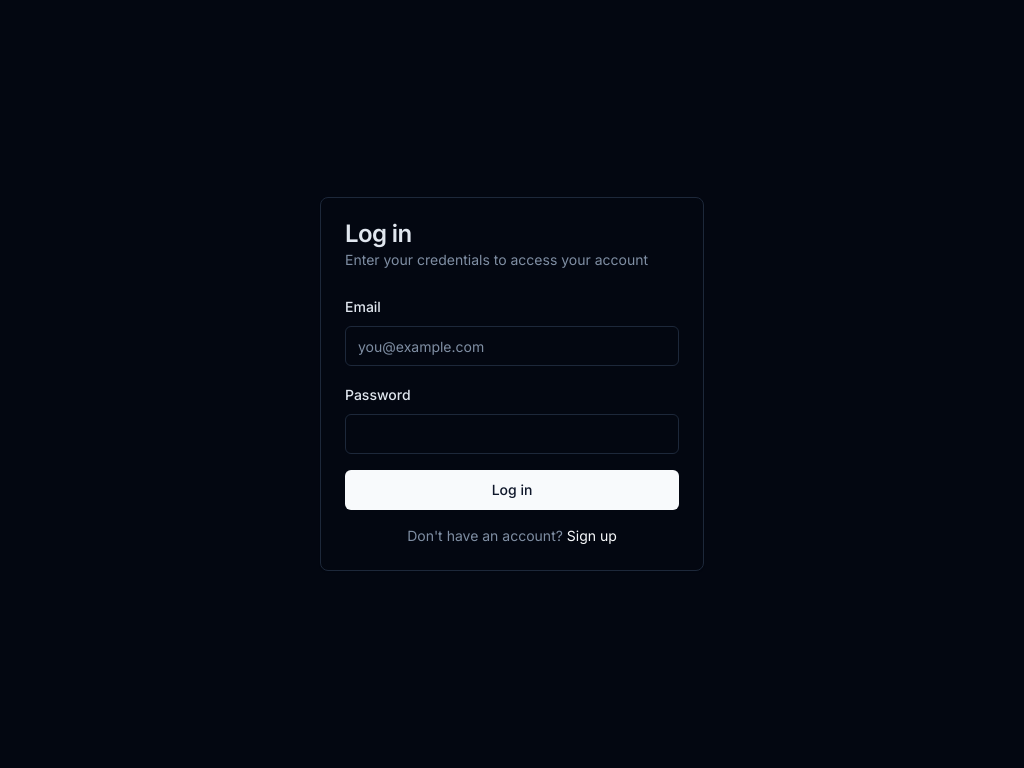
LoginPage › redirects to dashboard after successful login
This screenshot has width=1024, height=768.
Expected: the heading "Log in" is shown, top-left (345, 219), bottom-right (412, 248)
Type "test@example.com" into the field labelled "Email".
click(512, 346); type("test@example.com")  # box top-left (345, 326), bottom-right (679, 366)
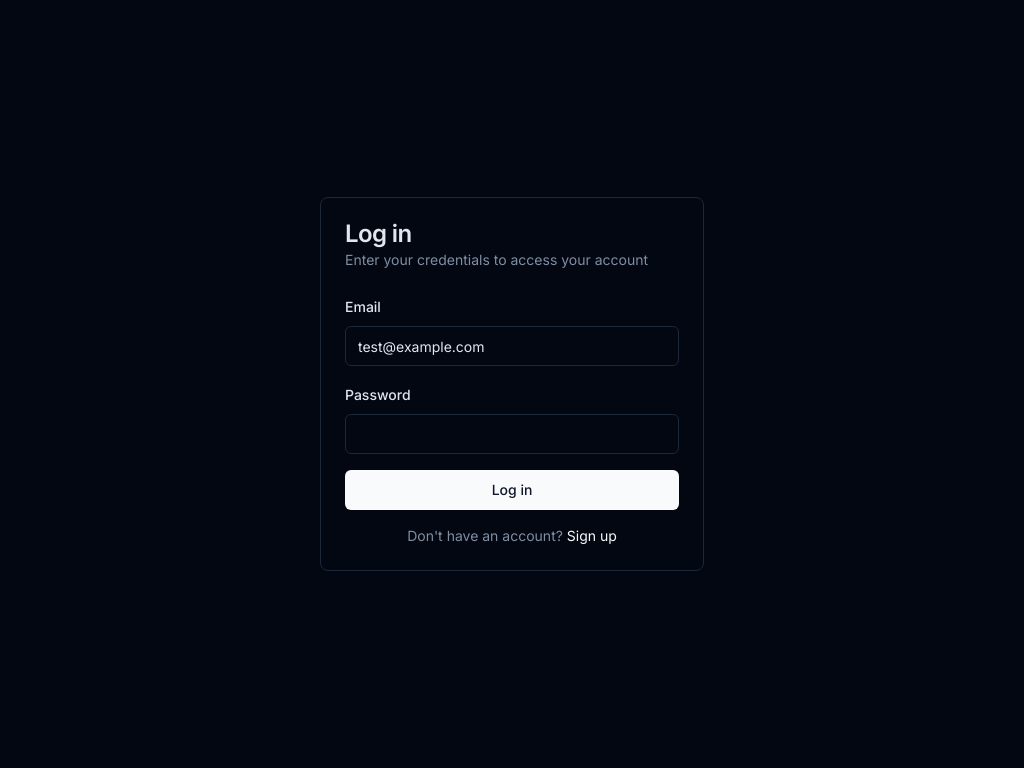
Type "password123" into the password field labelled "Password".
click(512, 434); type("password123")  # box top-left (345, 414), bottom-right (679, 454)
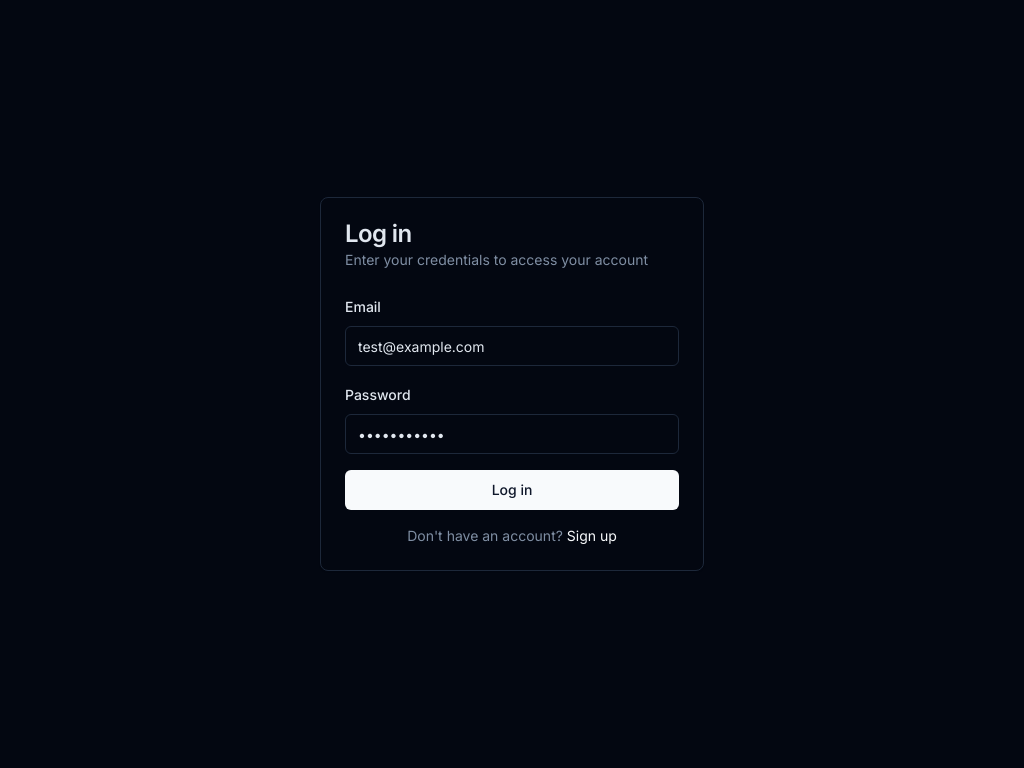
Click the button "Log in".
click(512, 490)  # box top-left (345, 470), bottom-right (679, 510)
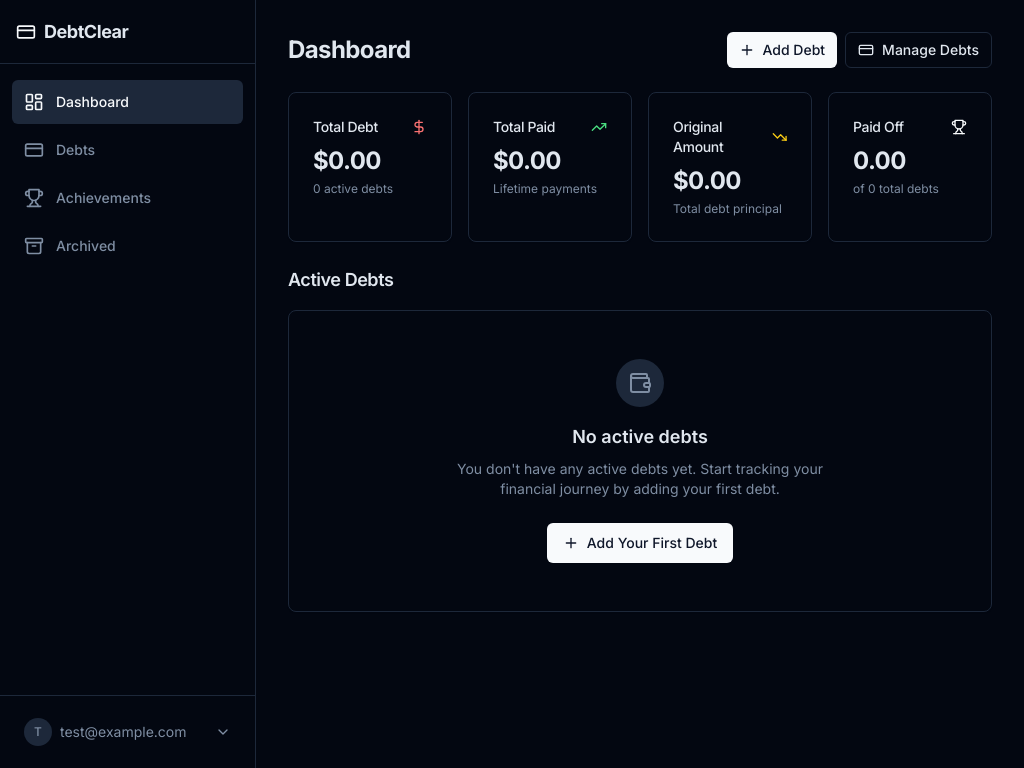
Result: the heading "Dashboard" is shown at top-left (288, 34), bottom-right (411, 66)
